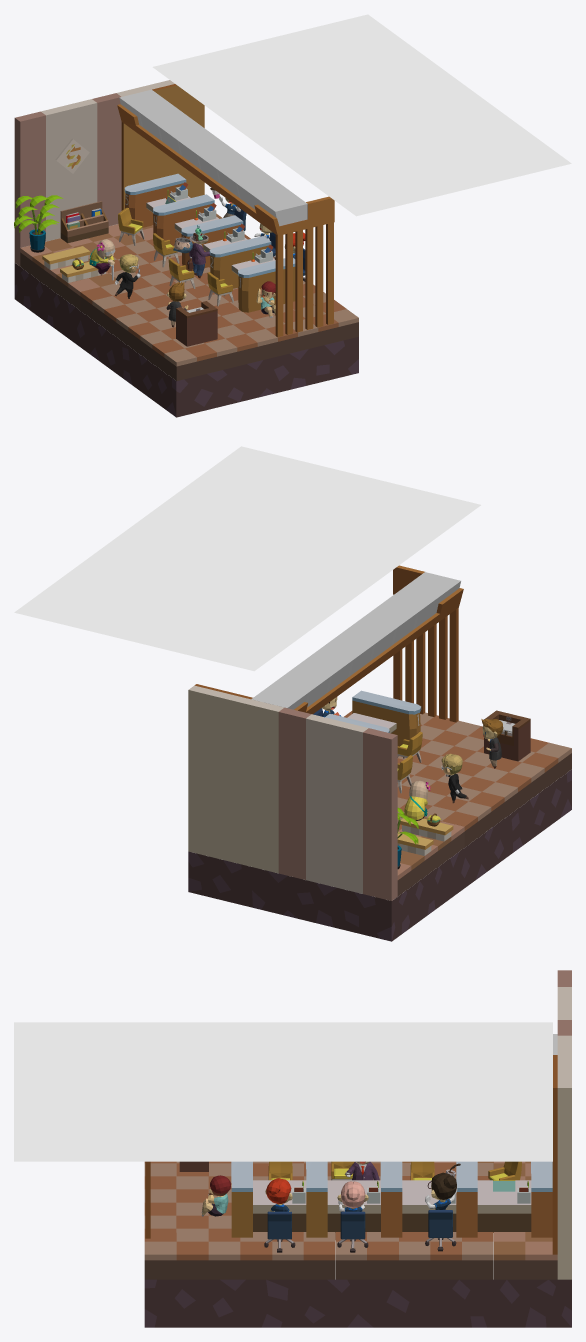
Rendered from 0034_manInBlack.fbx.
3 views of the same model, one above another, from view 1: azimuth 30°, elevation 25°; view 2: azimuth 150°, elevation 25°; view 3: azimuth 270°, elevation 25° (orthographic). The views are drawn at different scales.
Parts seen in each view (by area): view 1: shadowPlan_Top, Wall, Floor_bottom, floor3, Lamp, Wood2 (×6), Floor 1, floor4, Wood, Desk5, Desk1, Desk2 (+6 smaller); view 2: shadowPlan_Top, Wall, Floor_bottom, floor3, Lamp, Wood2 (×4), Wood, Floor 1, floor4, Desk1, Desk; view 3: shadowPlan_Top, Floor_bottom, Floor 1, floor2, Desk1_a (×4), Wall, Chair (×6), floor4, floor3, Desk3, Desk5, Desk1 (+7 smaller).
Boxes of the visible parts, bbox=[...] form: shadowPlan_Top: bbox=[152, 14, 571, 216]; Wall: bbox=[14, 80, 204, 266]; Floor_bottom: bbox=[14, 263, 358, 417]; floor3: bbox=[80, 267, 240, 381]; Lamp: bbox=[119, 89, 307, 226]; Wood2 (×6): bbox=[275, 222, 333, 337]; Floor 1: bbox=[217, 280, 358, 366]; floor4: bbox=[20, 213, 222, 310]; Wood: bbox=[117, 104, 334, 235]; Desk5: bbox=[124, 173, 186, 227]; Desk1: bbox=[238, 258, 295, 312]; Desk2: bbox=[209, 236, 271, 288]; shadowPlan_Top: bbox=[14, 446, 480, 671]; Wall: bbox=[188, 684, 397, 900]; Floor_bottom: bbox=[188, 769, 571, 941]; floor3: bbox=[397, 738, 571, 847]; Lamp: bbox=[251, 572, 460, 709]; Wood2 (×4): bbox=[416, 608, 458, 722]; Wood: bbox=[294, 565, 463, 714]; Floor 1: bbox=[344, 711, 483, 760]; floor4: bbox=[397, 817, 464, 896]; Desk1: bbox=[352, 690, 421, 746]; Desk: bbox=[484, 710, 530, 761]; shadowPlan_Top: bbox=[14, 1022, 552, 1161]; Floor_bottom: bbox=[144, 1233, 571, 1327]; Floor 1: bbox=[144, 1176, 335, 1279]; floor2: bbox=[335, 1163, 493, 1279]; Desk1_a (×4): bbox=[253, 1180, 531, 1232]; Wall: bbox=[552, 970, 571, 1279]; Chair (×6): bbox=[267, 1161, 521, 1239]; floor4: bbox=[402, 1161, 557, 1279]; floor3: bbox=[144, 1161, 380, 1239]; Desk3: bbox=[380, 1161, 402, 1237]; Desk5: bbox=[531, 1161, 552, 1237]; Desk1: bbox=[231, 1161, 252, 1237].
Size of the model in its own units: 24.53 by 13.48 by 25.1.
